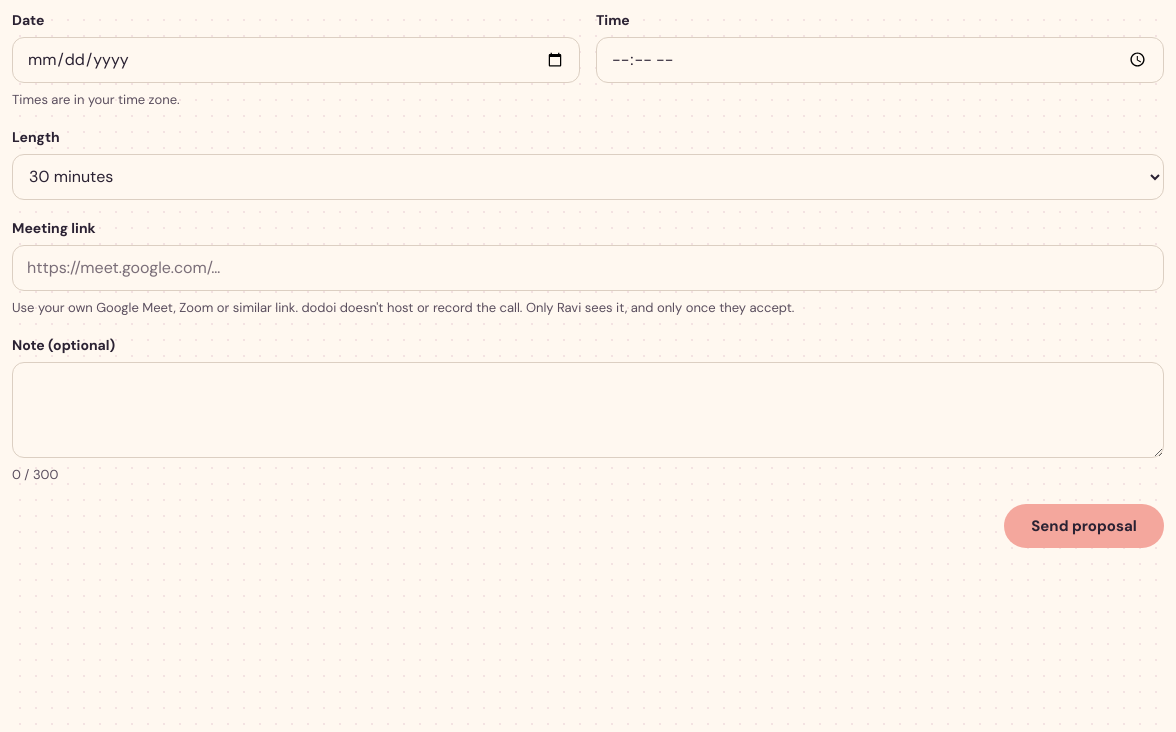
Test case: ProposeSessionForm › shows the server's reasons next to the fields
Type "2030-11-03" into the date field labelled "Date" at (296, 60), box [12, 37, 580, 83]
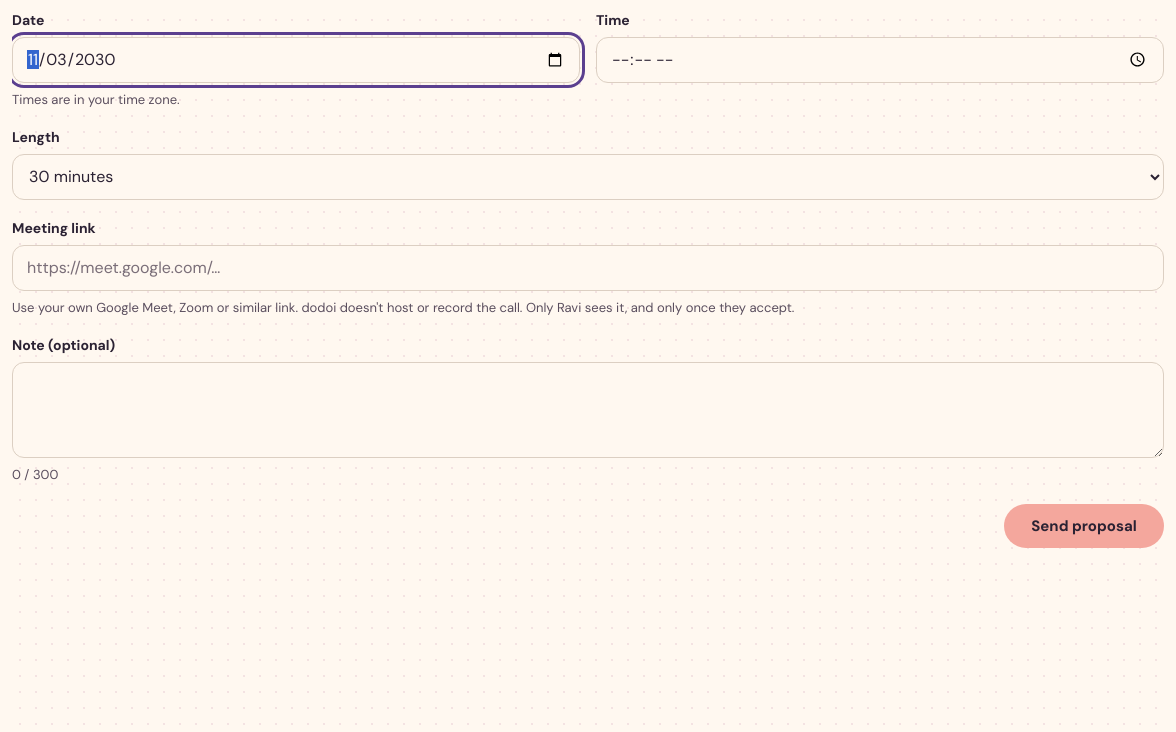
Type "16:00" into the time field labelled "Time" at (880, 60), box [596, 37, 1164, 83]
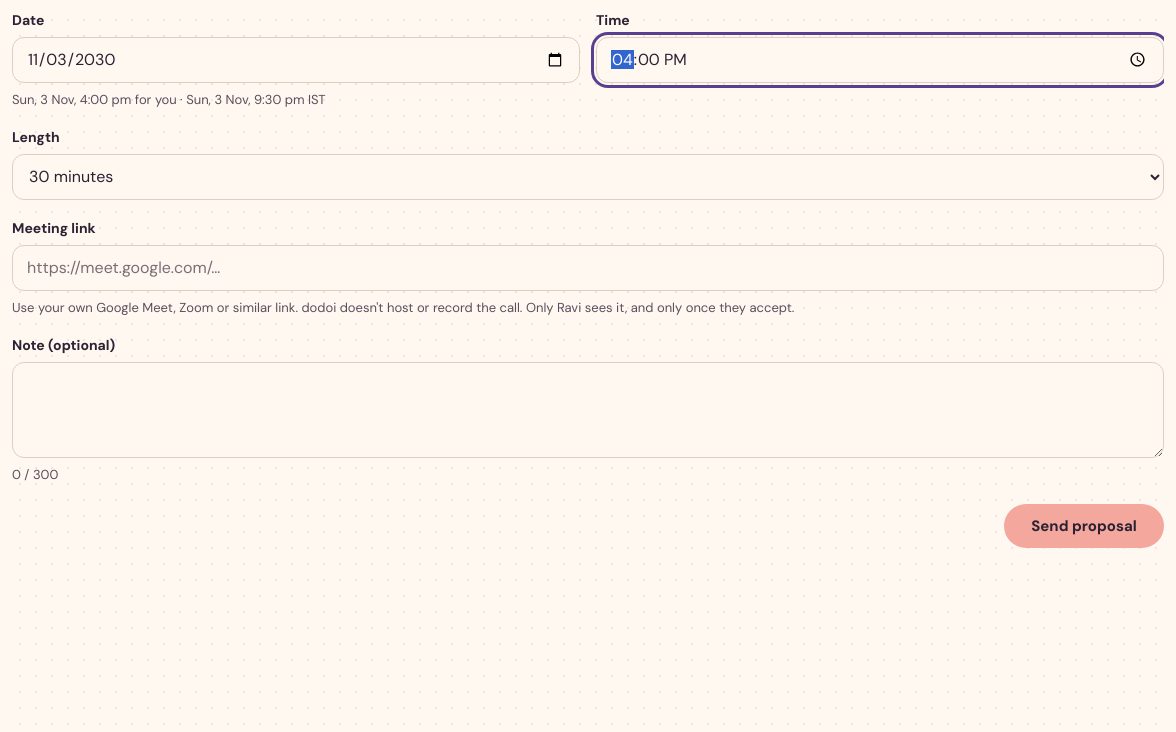
Type "https://meet.google.com/abc" into the field labelled "Meeting link" at (588, 268), box [12, 245, 1164, 291]
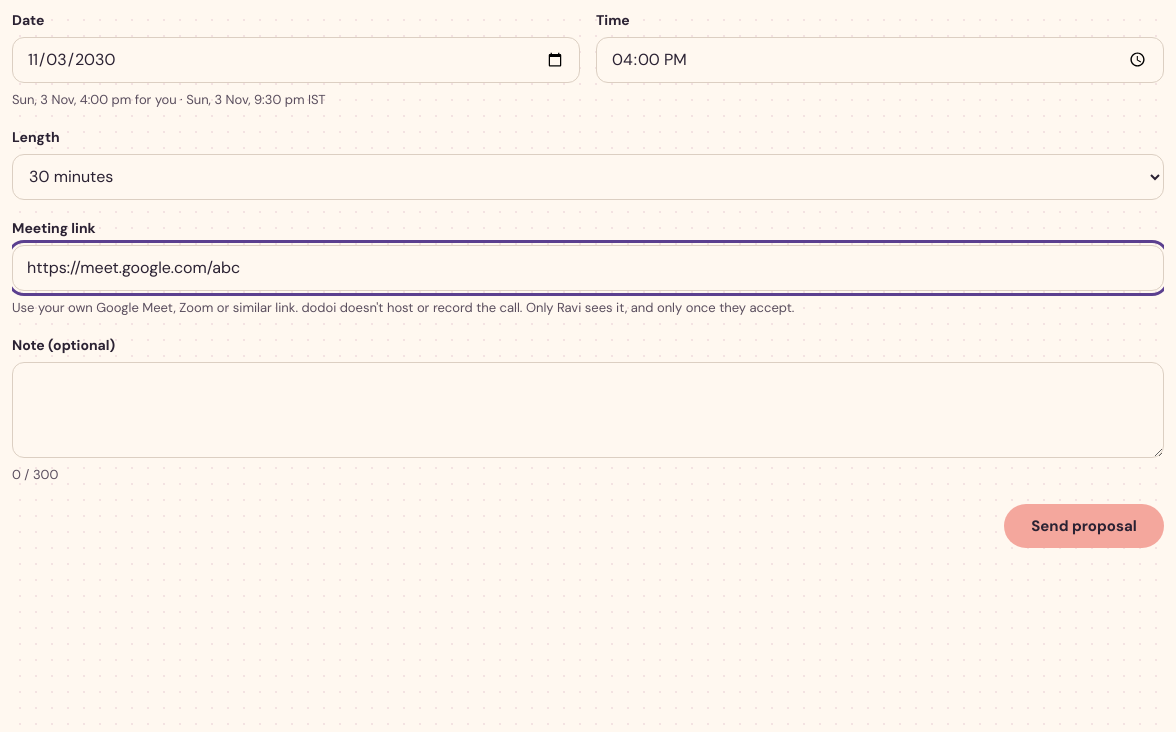
Click the button "Send proposal" at (1084, 526), box [1004, 504, 1164, 548]
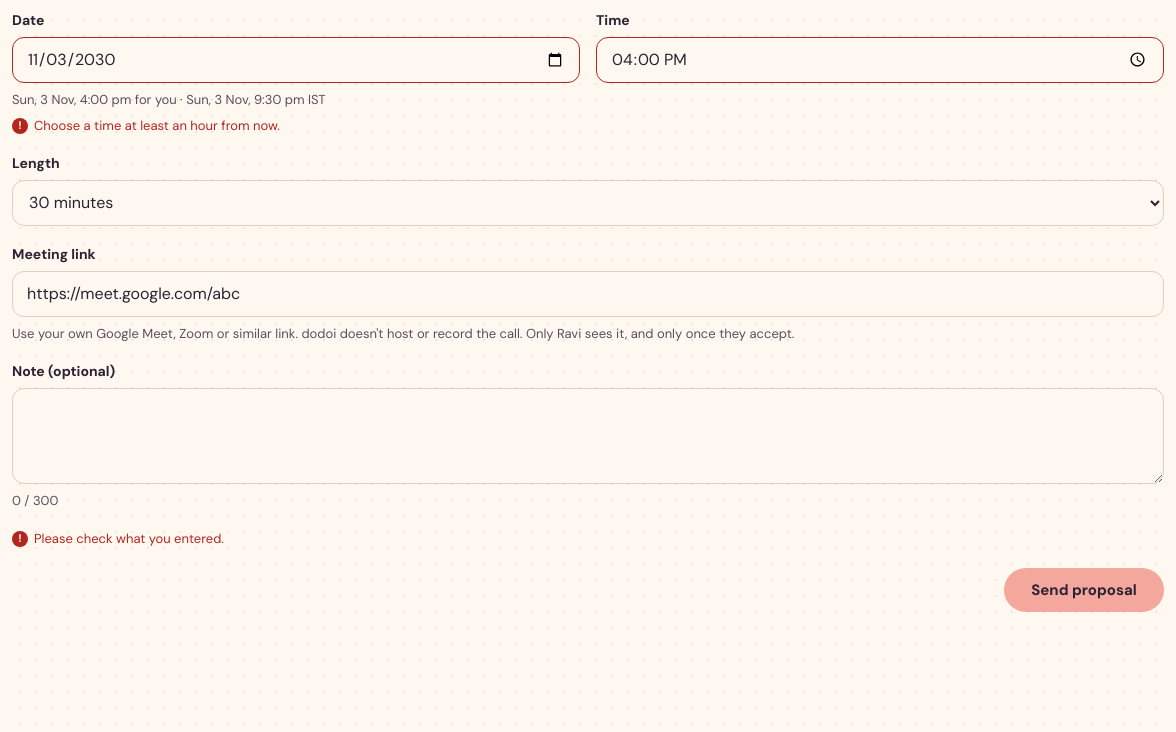
Expected: the text "Choose a time at least an hour from now." is shown, [34, 117, 280, 134]
